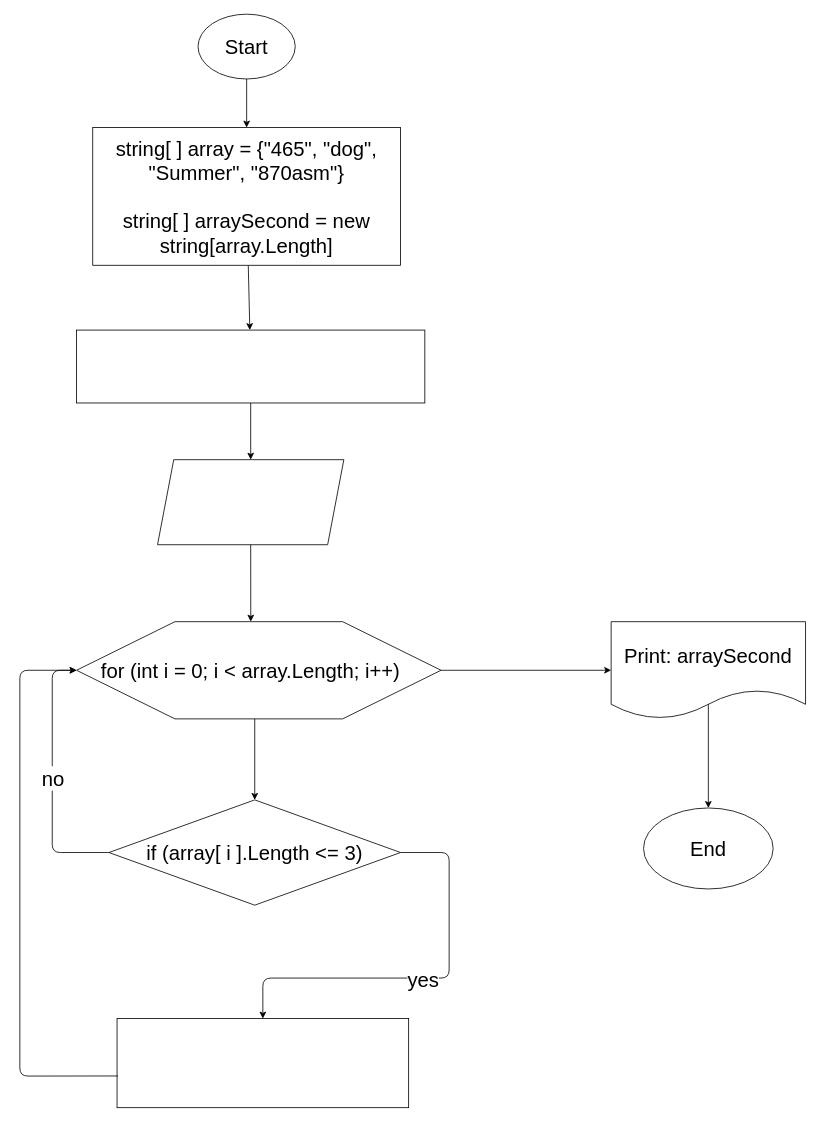
The diagram is 820 pixels wide and 1122 high, and some of its shapes have lost their labels. The centre of each missing label's shape, as x and y in pixels:
"array arraySecond int count = 0" goes at point 250,502.
"arraySecond[count] = array[ i ] count++" goes at point 262,1063.
"NewArray(string[ ] array, string[ ] arr)" goes at point 250,366.
